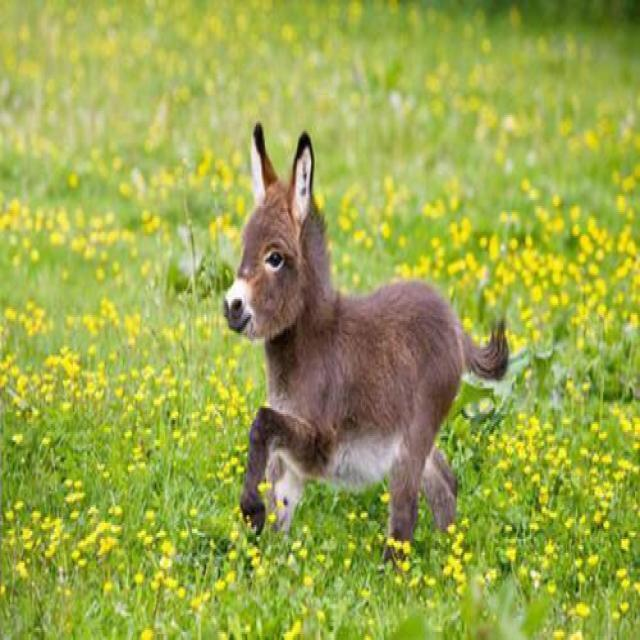Donkey: (223, 121, 508, 557)
